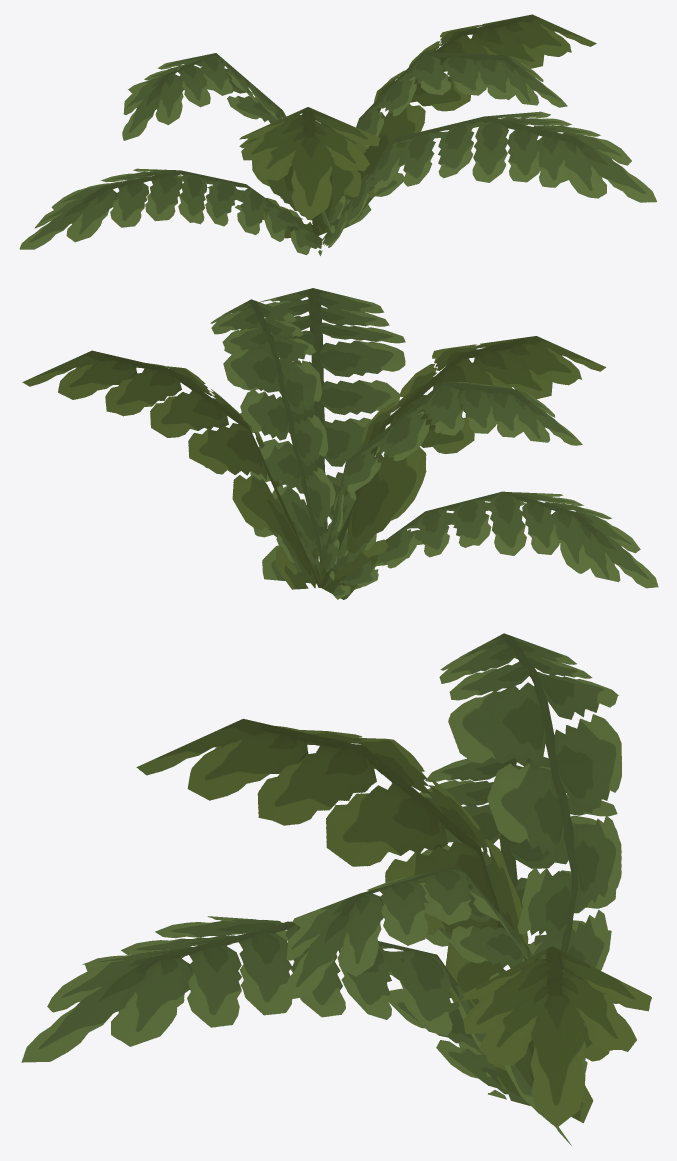
File: SM_Env_Fern_04.fbx
3 views of the same model, one above another, from view 1: azimuth 30°, elevation 25°; view 2: azimuth 150°, elevation 25°; view 3: azimuth 270°, elevation 25° (orthographic). The views are drawn at different scales.
Parts seen in each view (by area): view 1: SM_Env_Fern_04_LOD0; view 2: SM_Env_Fern_04_LOD0; view 3: SM_Env_Fern_04_LOD0.
Boxes of the visible parts, left/top/right/bottom form: SM_Env_Fern_04_LOD0: left=19, top=14, right=656, bottom=255; SM_Env_Fern_04_LOD0: left=22, top=288, right=658, bottom=599; SM_Env_Fern_04_LOD0: left=21, top=633, right=651, bottom=1145.
Size of what is drawn, in the model's own units: 203 by 69.4 by 118.
